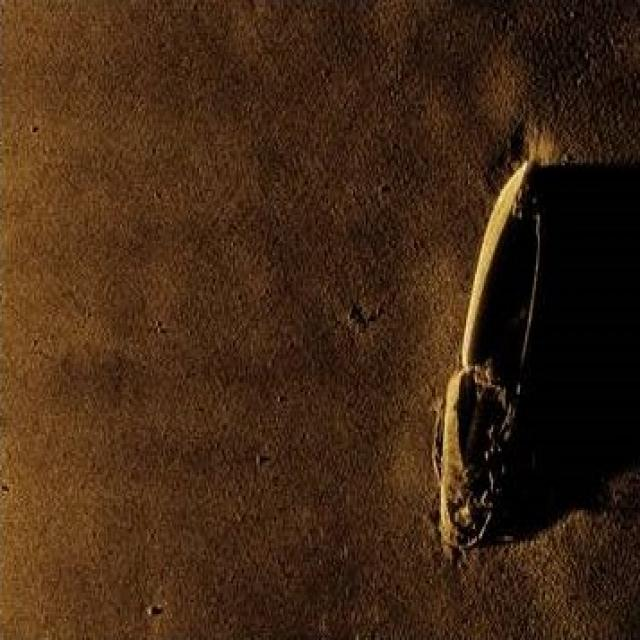ship: (432, 151, 541, 555)
